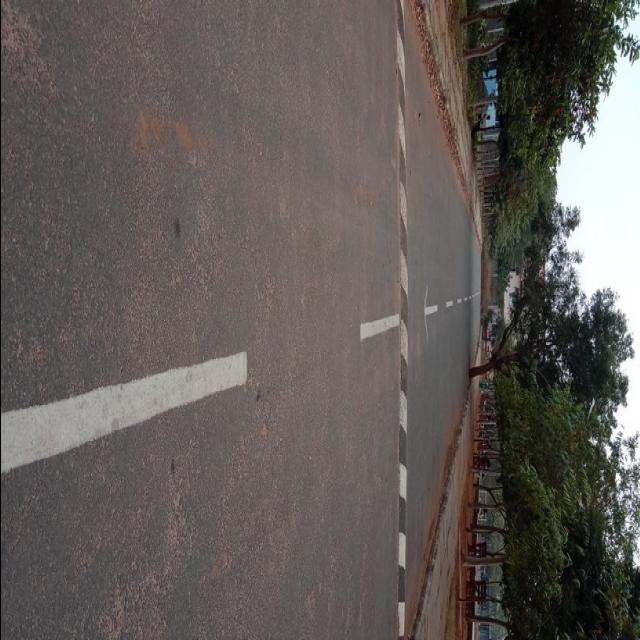speedbreaker: (390, 8, 414, 606)
